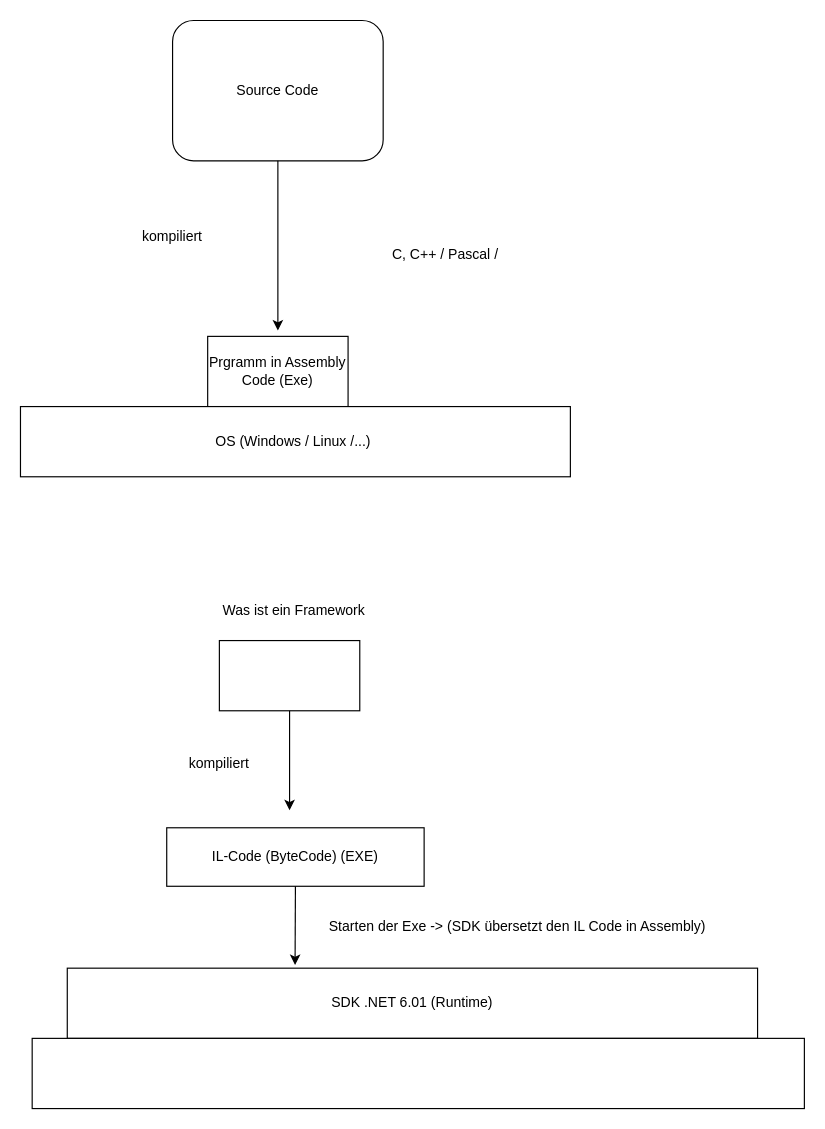
Image size: 825x1129. Some labels were removed from this diagram. The centre of each missing label's shape, as x and y in pixels:
OS: the point at 417,1073
SourceCode: the point at 289,675
